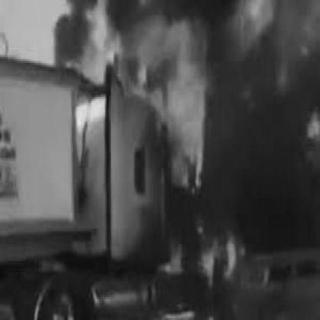Fire: (158, 21, 205, 185), (202, 240, 242, 280), (72, 90, 92, 114)
